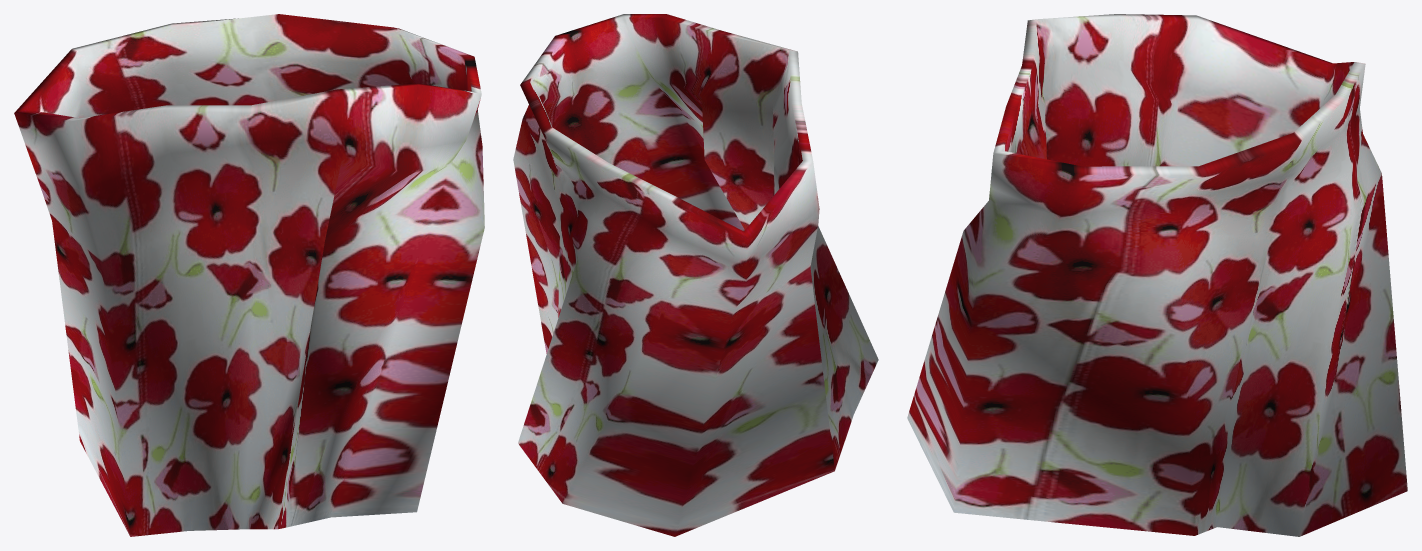
The model's file is m-bottom3.fbx.
3 renders of one model, left to right at view 1: azimuth 30°, elevation 25°; view 2: azimuth 150°, elevation 25°; view 3: azimuth 270°, elevation 25°, orthographic. The views are drawn at different scales.
Visible parts, largest first — view 1: M.Bottom.Shor.009; view 2: M.Bottom.Shor.009; view 3: M.Bottom.Shor.009.
Boxes of the visible parts, x1,y1,x2,y2 form: M.Bottom.Shor.009: (14, 14, 484, 536); M.Bottom.Shor.009: (513, 14, 878, 536); M.Bottom.Shor.009: (907, 14, 1407, 536).
Size of the model in its own units: 250 by 300 by 294.
